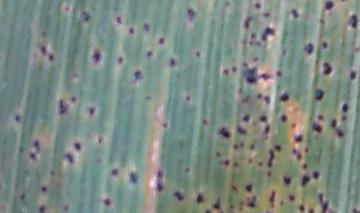tarspot: (238, 60, 258, 87), (315, 191, 336, 213), (153, 168, 166, 194), (55, 97, 69, 119), (345, 12, 360, 31), (90, 47, 104, 66), (260, 26, 275, 42), (321, 61, 333, 79), (247, 193, 259, 211), (217, 126, 231, 141), (302, 40, 313, 57), (131, 68, 144, 82), (312, 88, 325, 102), (185, 6, 197, 21), (266, 150, 275, 170), (242, 14, 253, 30), (280, 173, 293, 186), (235, 124, 248, 137), (61, 151, 75, 163), (322, 1, 336, 13), (310, 120, 322, 134), (268, 189, 276, 210), (79, 10, 92, 22), (31, 139, 42, 153), (128, 170, 138, 185), (194, 191, 205, 204), (172, 190, 185, 201), (211, 196, 222, 209), (262, 123, 271, 138), (339, 102, 350, 114), (278, 91, 289, 103), (280, 47, 291, 59), (239, 94, 251, 105), (87, 104, 97, 117), (290, 7, 299, 21), (141, 94, 155, 103), (167, 56, 177, 68), (39, 44, 49, 56), (293, 132, 303, 144), (335, 127, 345, 139), (259, 72, 271, 82), (329, 117, 338, 130), (262, 93, 271, 106), (72, 140, 82, 151), (319, 40, 329, 51), (240, 112, 250, 123), (109, 167, 120, 177), (101, 197, 112, 207), (244, 182, 254, 193), (229, 183, 239, 194), (113, 14, 122, 26), (300, 175, 309, 187), (310, 170, 320, 180), (222, 158, 232, 168), (142, 22, 151, 33), (47, 52, 56, 63), (297, 202, 306, 213), (27, 152, 38, 161), (37, 204, 48, 213), (249, 143, 258, 154), (182, 164, 191, 175), (13, 113, 21, 125), (349, 69, 357, 81), (279, 112, 287, 124), (96, 134, 104, 146), (259, 10, 272, 17), (157, 37, 167, 46), (273, 142, 282, 152), (18, 191, 27, 201), (288, 192, 296, 203), (258, 115, 269, 123), (39, 184, 48, 193), (295, 152, 304, 161), (317, 17, 326, 26), (116, 55, 124, 65), (252, 2, 262, 10), (275, 68, 283, 78), (214, 149, 222, 159), (238, 139, 246, 149), (256, 159, 264, 169), (247, 30, 257, 38), (62, 4, 72, 12), (277, 196, 285, 206), (241, 36, 248, 47), (144, 49, 153, 57), (200, 117, 208, 126), (246, 156, 254, 165), (289, 121, 297, 130), (317, 112, 324, 122), (185, 93, 192, 103), (353, 44, 360, 54), (222, 1, 232, 8), (62, 202, 68, 213), (265, 170, 273, 178), (238, 198, 246, 206), (128, 26, 135, 35), (339, 114, 348, 121), (307, 206, 316, 213), (221, 67, 228, 76), (231, 65, 238, 74), (237, 204, 244, 213), (350, 207, 360, 213), (194, 50, 202, 57), (161, 122, 168, 130), (301, 163, 309, 170), (231, 142, 238, 150), (291, 146, 298, 154), (49, 168, 56, 176), (247, 39, 254, 47), (40, 30, 48, 37), (302, 146, 309, 153), (232, 160, 238, 168), (227, 202, 233, 210), (256, 93, 262, 99), (254, 40, 260, 46), (252, 55, 257, 61), (204, 209, 209, 213), (339, 1, 346, 3)
